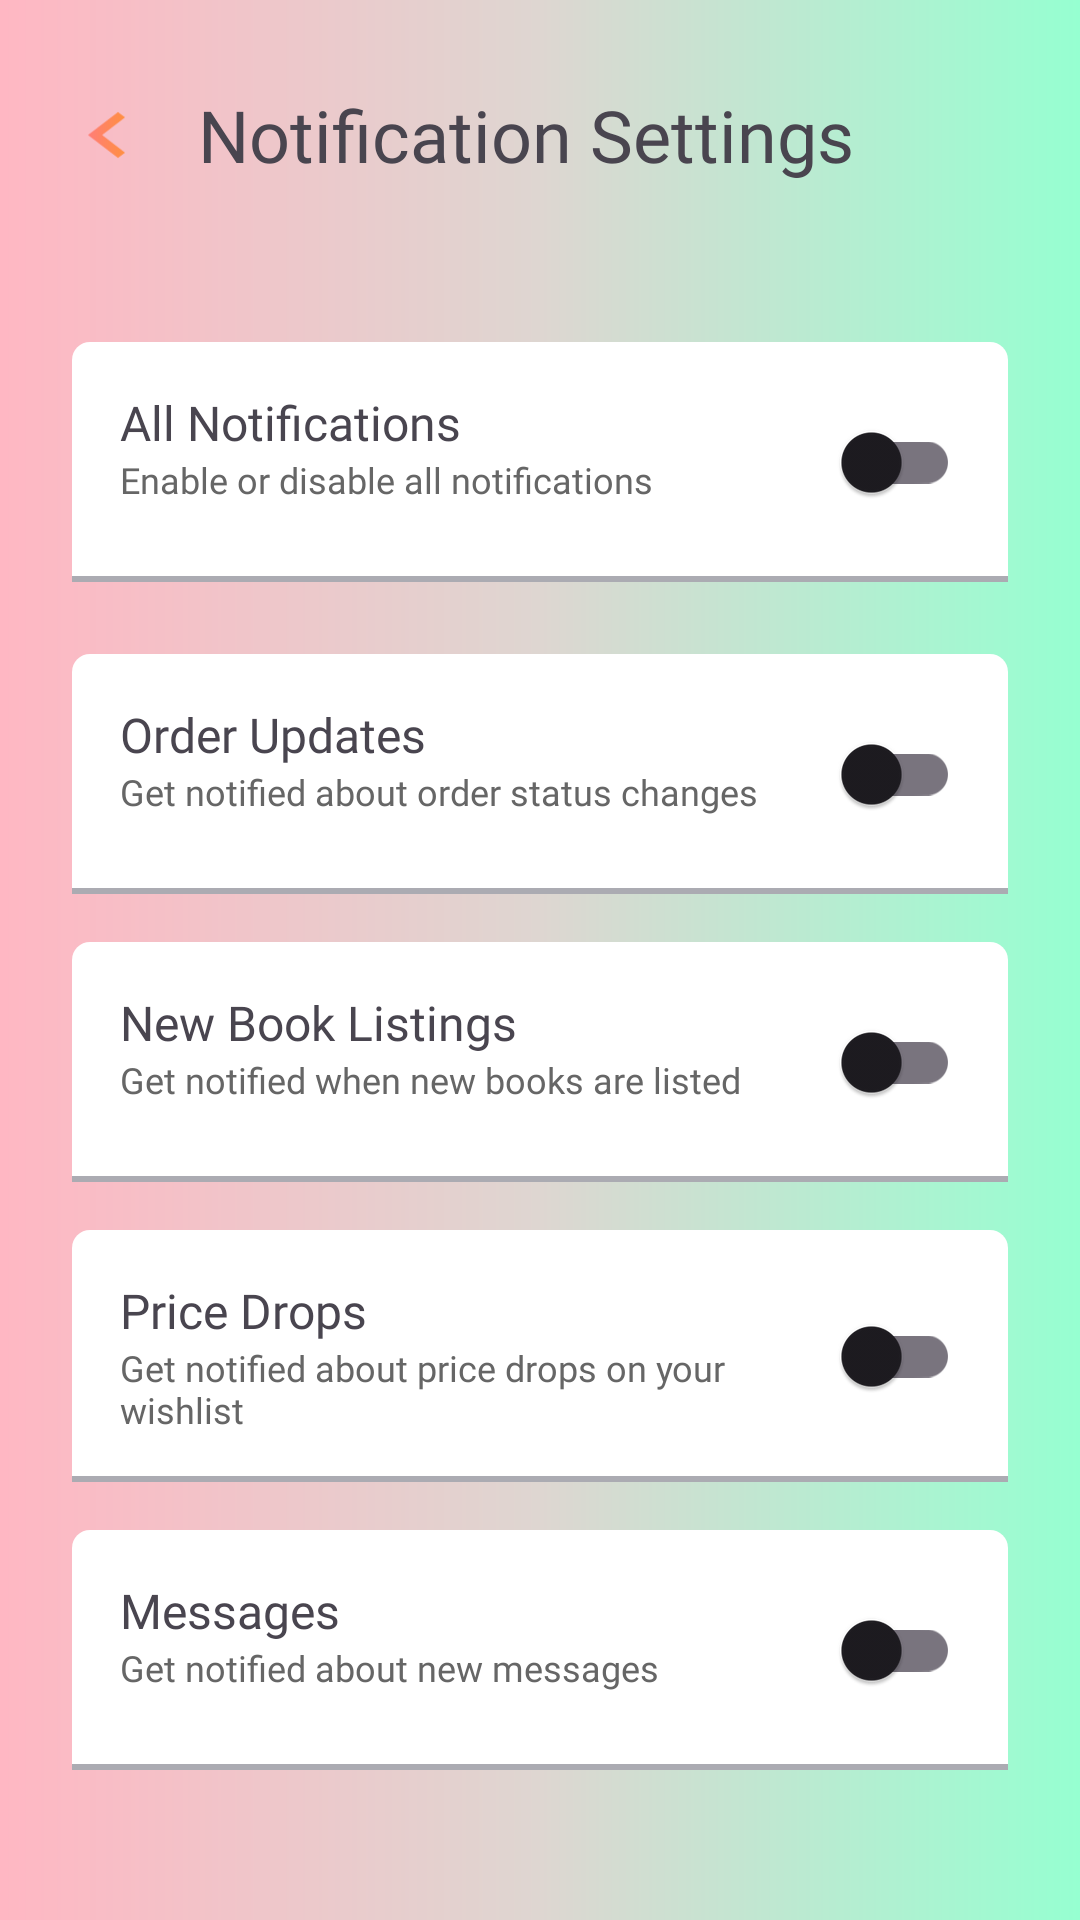

Point at icon controls on the screen. Image size 1080×1920, points as [x,y].
arrow left: [106,135]
